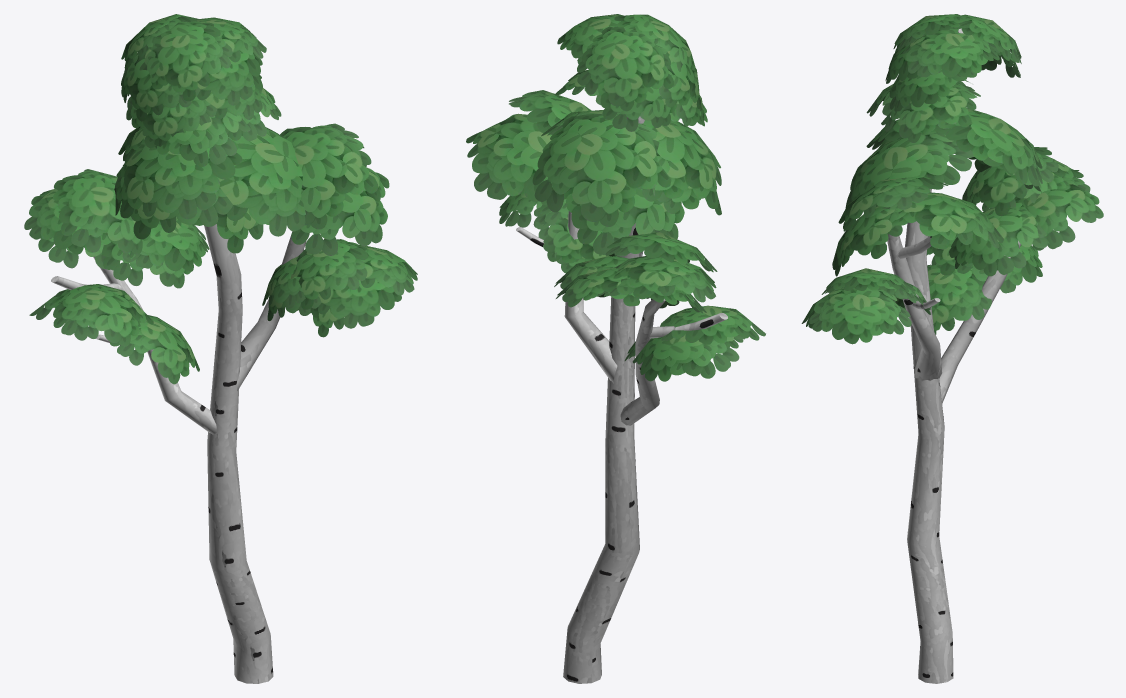
The model's file is quaternius-textured-stylized-trees-birch-7.glb.
The picture shows the model from 3 angles, left to right: view 1: azimuth 30°, elevation 25°; view 2: azimuth 150°, elevation 25°; view 3: azimuth 270°, elevation 25°; orthographic projection. The views are drawn at different scales.
Parts seen in each view (by area): view 1: Birch_7; view 2: Birch_7; view 3: Birch_7.
Boxes of the visible parts, left/top/right/bottom form: Birch_7: left=24, top=14, right=417, bottom=683; Birch_7: left=466, top=14, right=765, bottom=683; Birch_7: left=801, top=14, right=1103, bottom=683.
Bounding box in the file's own units: 4.87 × 9.92 × 4.46.
Materials: 2 (2 with a texture image).
